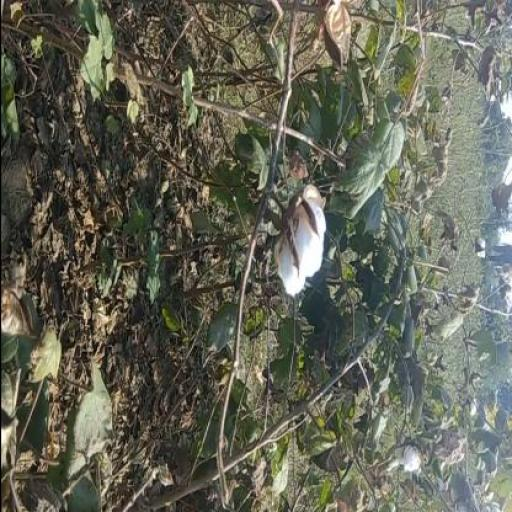cotton_ready: (247, 162, 331, 306)
